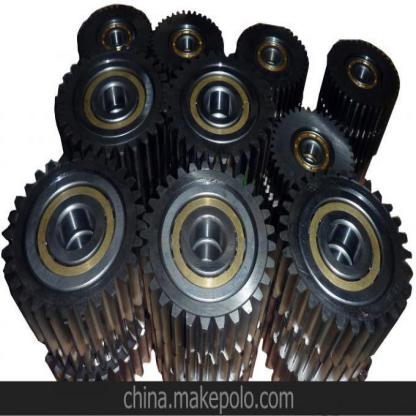FOD: (2, 151, 148, 355)
